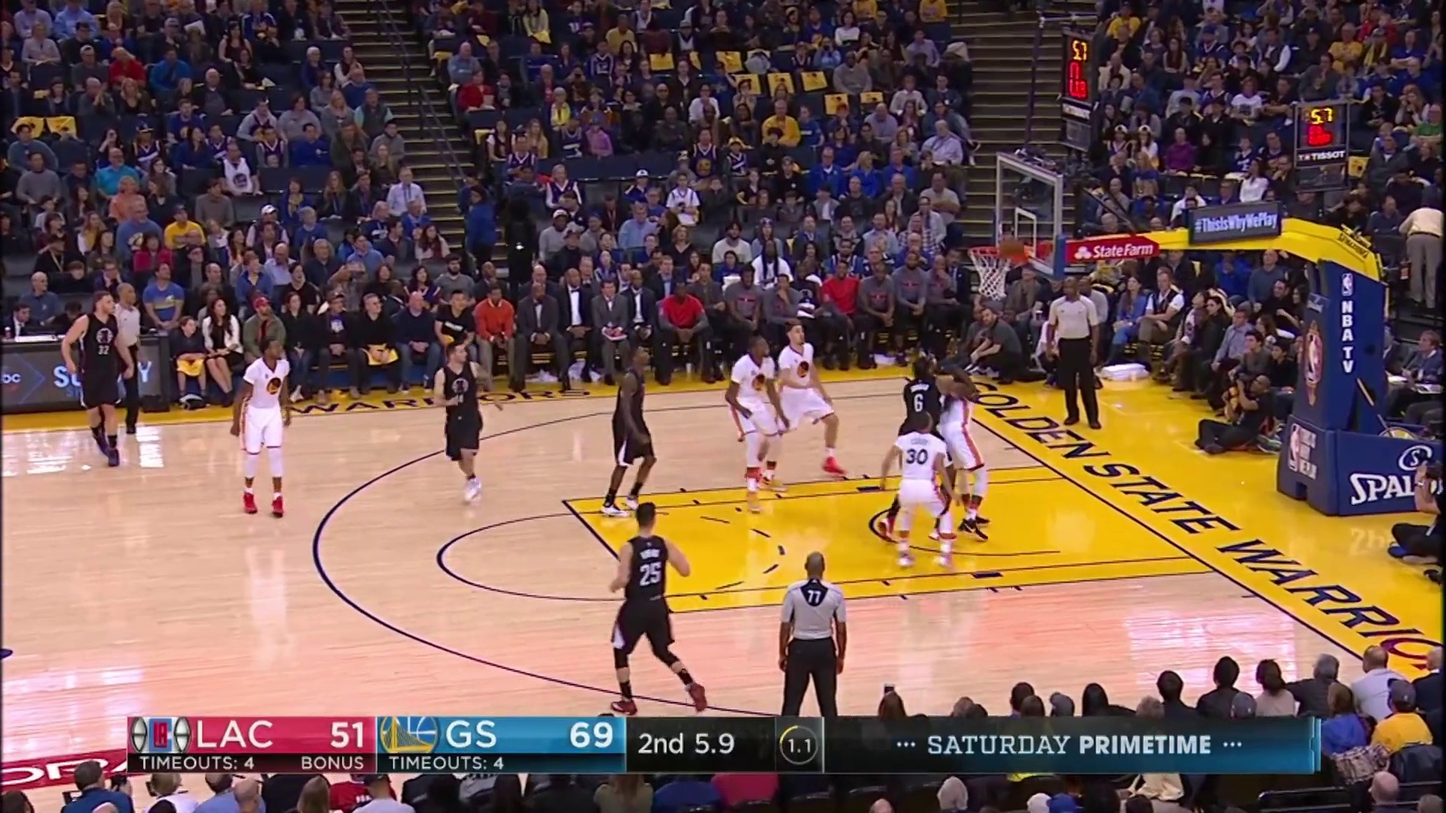basket_hoop: (920, 151, 1083, 321)
